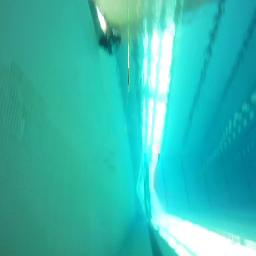Full: (98, 28, 121, 56)
